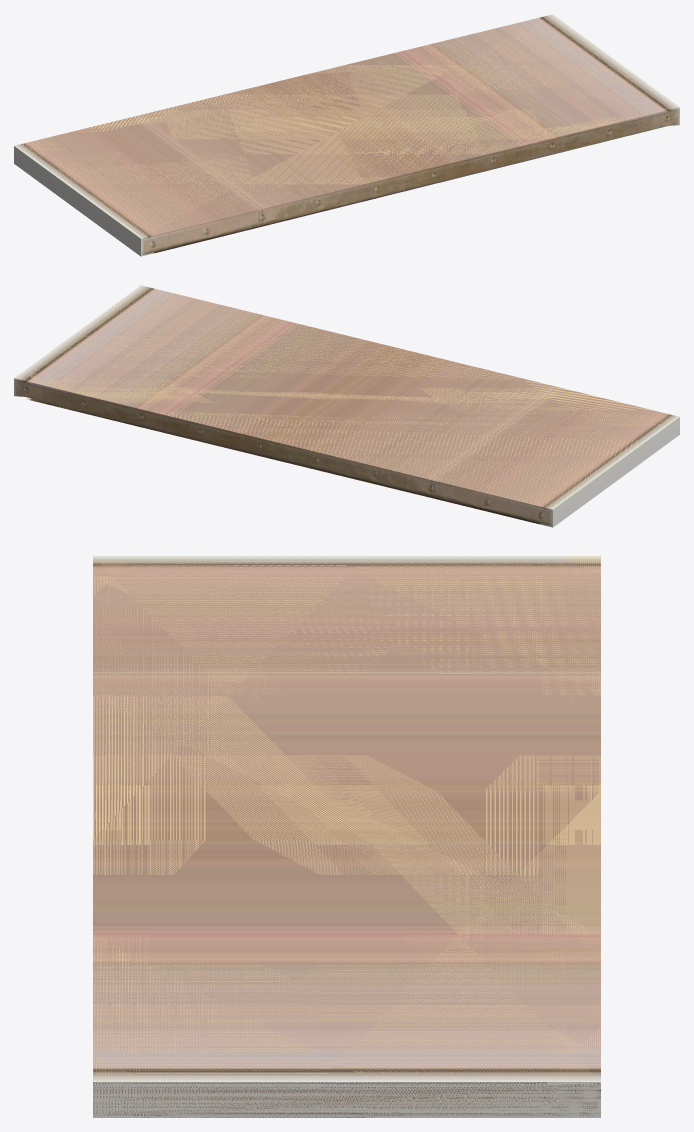
3 views of the same model, one above another, from view 1: azimuth 30°, elevation 25°; view 2: azimuth 150°, elevation 25°; view 3: azimuth 270°, elevation 25° (orthographic). The views are drawn at different scales.
Bounding box in the file's own units: 1.55 × 0.0498 × 0.6325.
